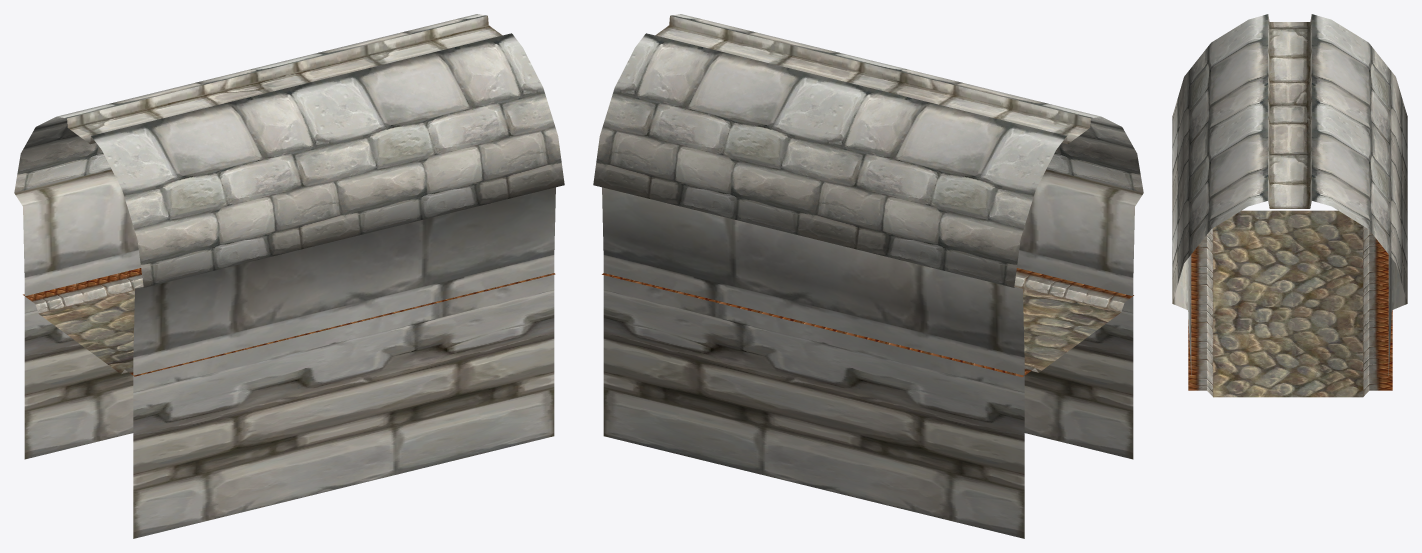
The model's file is stormwind_012.fbx.
3 views of the same model, side by side, from view 1: azimuth 30°, elevation 25°; view 2: azimuth 150°, elevation 25°; view 3: azimuth 270°, elevation 25° (orthographic). The views are drawn at different scales.
Parts seen in each view (by area): view 1: stormwind_012_11, stormwind_012_4, stormwind_012_5, stormwind_012_46, stormwind_012_12; view 2: stormwind_012_11, stormwind_012_4, stormwind_012_5, stormwind_012_46, stormwind_012_12; view 3: stormwind_012_4, stormwind_012_46, stormwind_012_5, stormwind_012_12, stormwind_012_11.
Boxes of the visible parts, x1,y1,x2,y2 form: stormwind_012_11: (14, 169, 555, 538); stormwind_012_4: (14, 14, 564, 287); stormwind_012_5: (67, 15, 502, 144); stormwind_012_46: (39, 290, 134, 373); stormwind_012_12: (23, 268, 555, 376); stormwind_012_11: (602, 169, 1143, 538); stormwind_012_4: (593, 14, 1143, 287); stormwind_012_5: (655, 15, 1090, 144); stormwind_012_46: (1023, 289, 1120, 372); stormwind_012_12: (602, 268, 1133, 377); stormwind_012_4: (1172, 14, 1407, 302); stormwind_012_46: (1213, 210, 1362, 397); stormwind_012_5: (1268, 16, 1311, 208); stormwind_012_12: (1188, 226, 1392, 396); stormwind_012_11: (1172, 255, 1407, 375).
Bounding box in the file's own units: 18.89 × 15.95 × 10.07.
